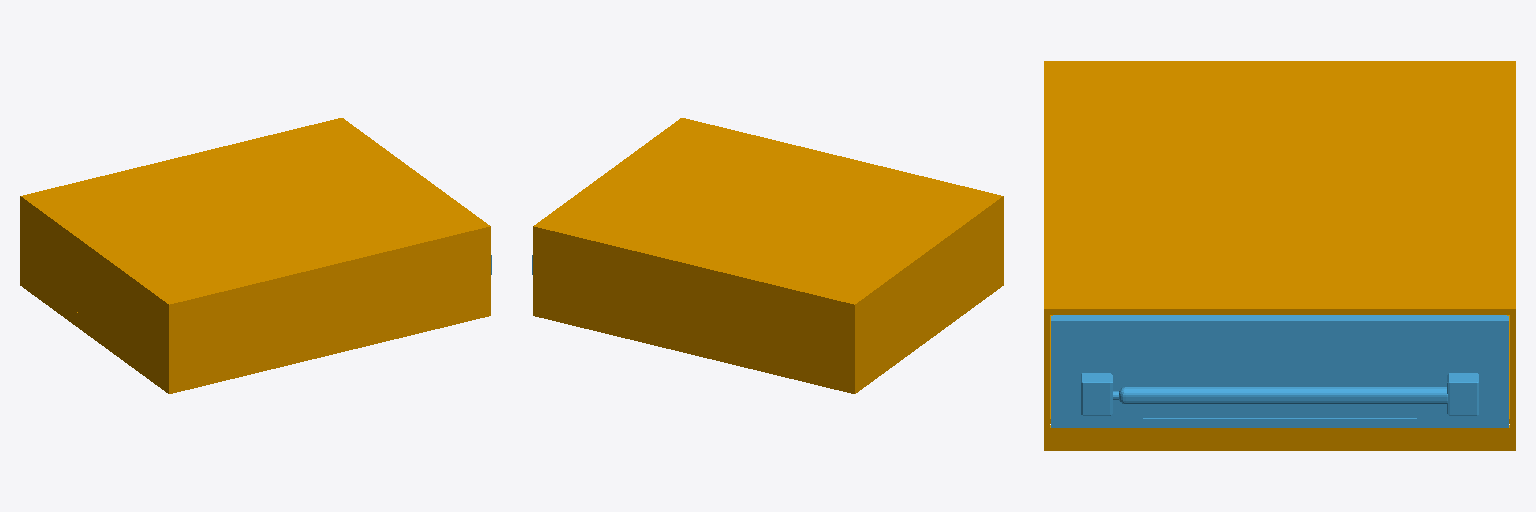
robot.urdf — var4_drawer:
<?xml version="1.0"?>
<!-- Generated by scripts/make_drawer_asset.py from robot.urdf.
     Geometry baked +90 deg about z so the slide axis is +X, matching the
     convention every offset in drawer_open_place/action_config.json assumes.
     handle_xpos is derived from the tray geometry, not hand-placed.
     Collision shapes are a CoACD decomposition of the same baked meshes. -->
<robot name="var4_drawer">
  <link name="outer_box">
    <inertial><origin xyz="0.000000 0.000000 0.030000" rpy="0 0 0"/>
      <mass value="0.38"/>
      <inertia ixx="0.0018" ixy="0" ixz="0" iyy="0.0012" iyz="0" izz="0.0026"/></inertial>
    <visual><origin xyz="0 0 0" rpy="0 0 0"/>
      <geometry><mesh filename="meshes/base_band_baked.obj"/></geometry></visual>
    <collision><origin xyz="0 0 0" rpy="0 0 0"/>
      <geometry><mesh filename="meshes/base_band_acd.obj"/></geometry></collision>
  </link>

  <link name="inner_box">
    <inertial><origin xyz="0.010000 -0.000000 0.036000" rpy="0 0 0"/>
      <mass value="0.24"/>
      <inertia ixx="0.00098" ixy="0" ixz="0" iyy="0.00068" iyz="0" izz="0.00151"/></inertial>
    <visual><origin xyz="0 0 0" rpy="0 0 0"/>
      <geometry><mesh filename="meshes/drawer_baked.obj"/></geometry></visual>
    <collision><origin xyz="0 0 0" rpy="0 0 0"/>
      <geometry><mesh filename="meshes/drawer_acd.obj"/></geometry></collision>
  </link>

  <link name="handle_xpos"/>

  <joint name="slide_rails" type="prismatic">
    <origin xyz="0.000000 0.000000 0.000000" rpy="0 0 0"/>
    <parent link="outer_box"/><child link="inner_box"/>
    <axis xyz="-1 0 0"/>
    <limit lower="-0.1697" upper="0.0" effort="25.0" velocity="1.0" acceleration="5.0"/>
  </joint>

  <joint name="fixed_handle" type="fixed">
    <origin xyz="0.129401 -0.000000 0.029100" rpy="0 -1.5707963268 0"/>
    <parent link="inner_box"/><child link="handle_xpos"/>
  </joint>
</robot>

--- Render facts (derived) ---
The picture shows the robot from 3 angles, left to right: view 1: azimuth 30°, elevation 25°; view 2: azimuth 150°, elevation 25°; view 3: azimuth 270°, elevation 25°; orthographic projection.
Robot: var4_drawer — 3 links, 2 joints (1 prismatic, 1 fixed); root link outer_box; default pose: all joints at 0.
Links seen in each view (by area): view 1: outer_box; view 2: outer_box; view 3: outer_box, inner_box.
Boxes of the visible links, x1,y1,x2,y2 form: outer_box: (20, 118, 490, 393); outer_box: (533, 118, 1003, 393); outer_box: (1044, 61, 1515, 450); inner_box: (1051, 315, 1508, 427).
Size in the robot's own frame: 0.2599 by 0.2 by 0.0666 metres.
Meshes: 2 distinct files referenced, 2 mesh visuals loaded (2 OBJ).
